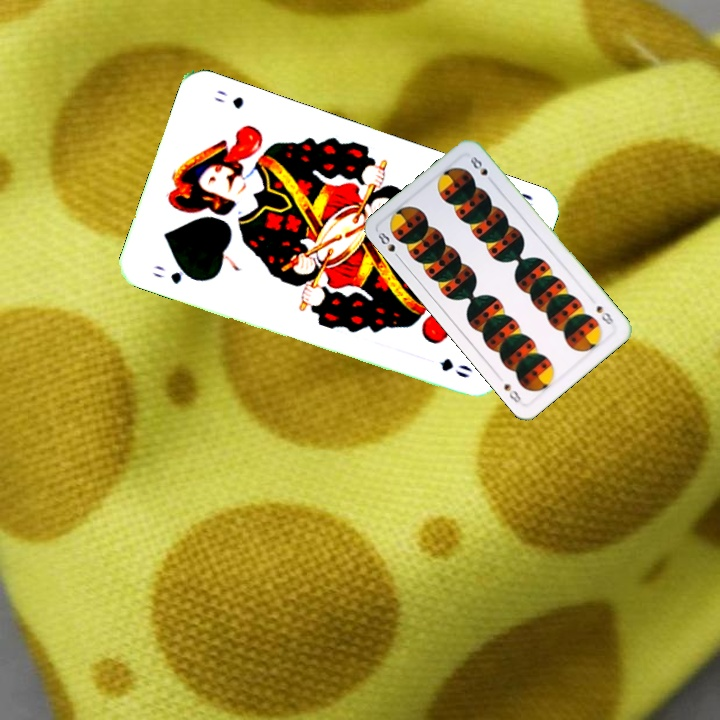GO: (148, 261, 201, 287)
S8: (372, 228, 404, 263), (592, 301, 616, 327)
